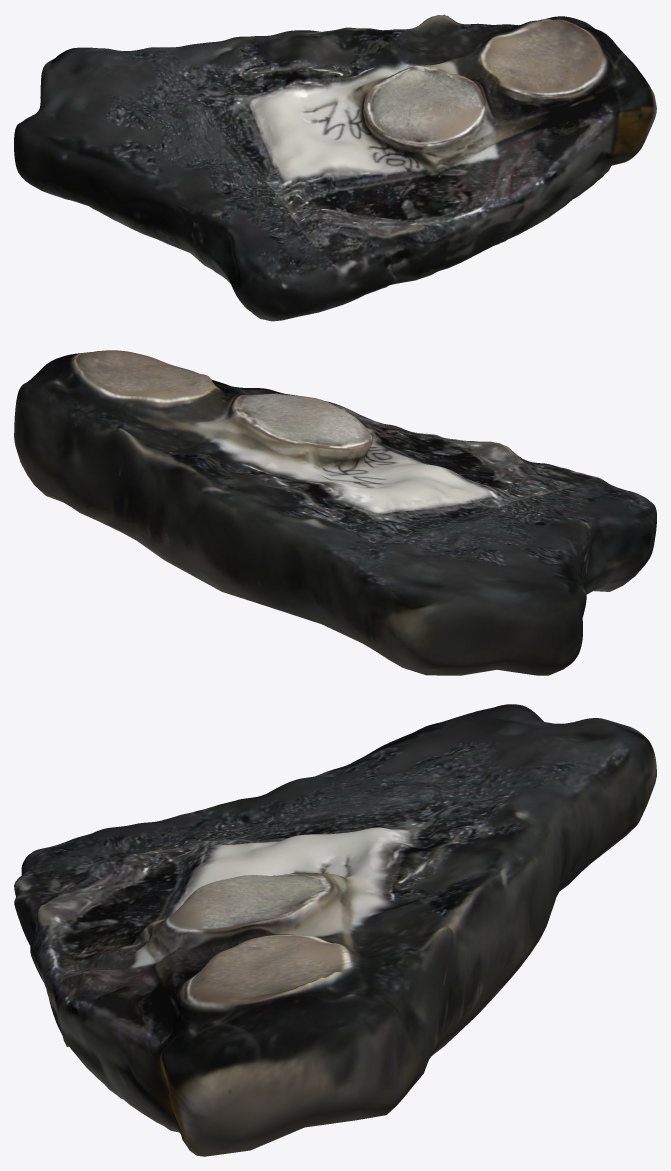
3 renders of one model, top to bottom at view 1: azimuth 30°, elevation 25°; view 2: azimuth 150°, elevation 25°; view 3: azimuth 270°, elevation 25°, orthographic. The views are drawn at different scales.
Size of the model in its own units: 0.6626 by 0.1822 by 0.4826.
1 material, 1 textured.
